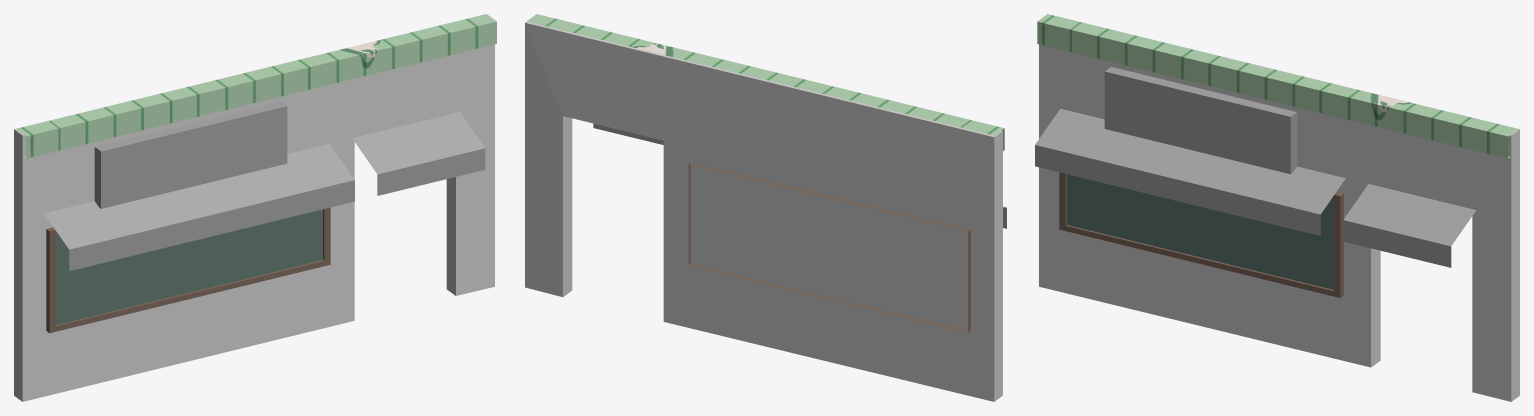
Rendered from cafewall.fbx.
3 views of the same model, side by side, from view 1: azimuth 30°, elevation 25°; view 2: azimuth 150°, elevation 25°; view 3: azimuth 330°, elevation 25° (orthographic).
Parts seen in each view (by area): view 1: pCube40; view 2: pCube40; view 3: pCube40.
Part boxes in pixels (box(x1,y1,x2,y2)): pCube40: box(14, 14, 496, 401); pCube40: box(525, 14, 1006, 401); pCube40: box(1035, 14, 1519, 401).
Bounding box in the file's own units: 6.83 × 3.69 × 0.924.
